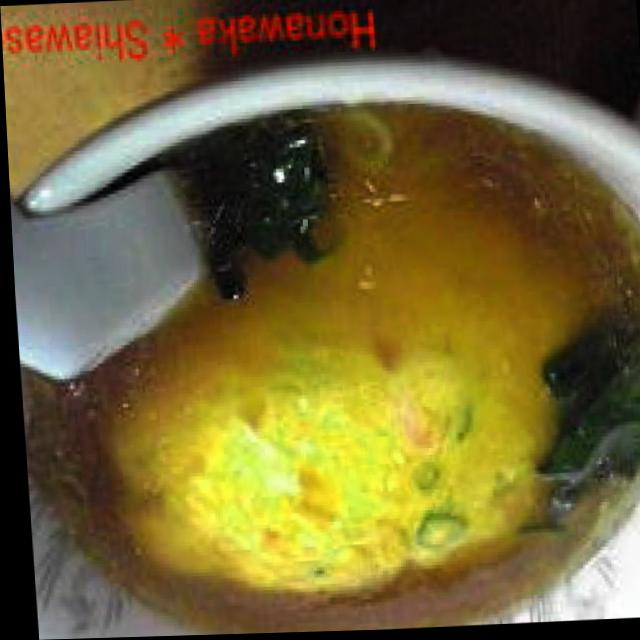面条主食: (4, 75, 640, 640)
